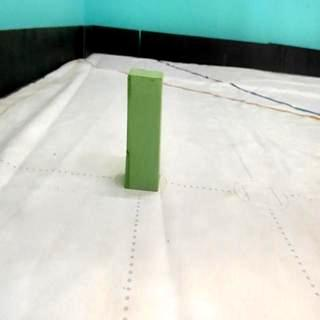greenbox: (124, 63, 168, 193)
